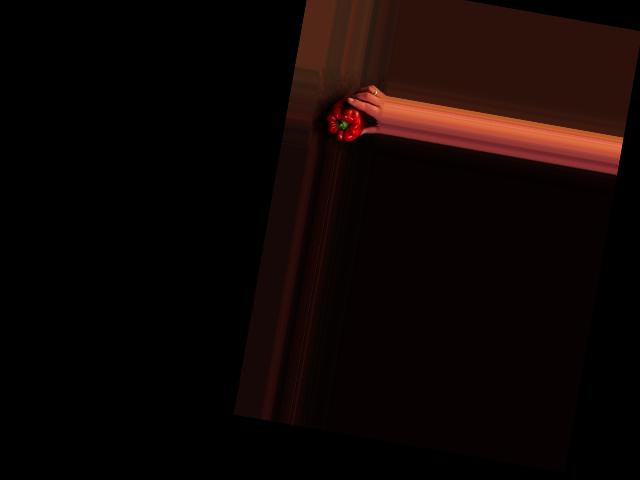bell_pepper: (321, 95, 370, 145)
